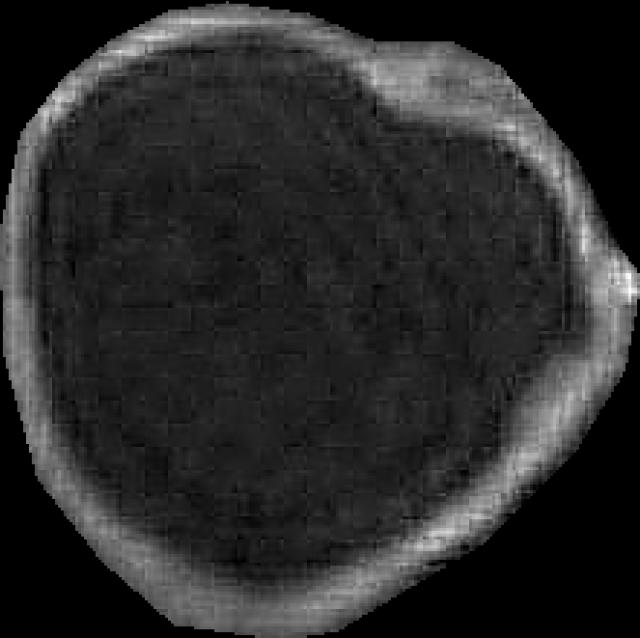tumor_good_chance: (0, 1, 640, 638)
